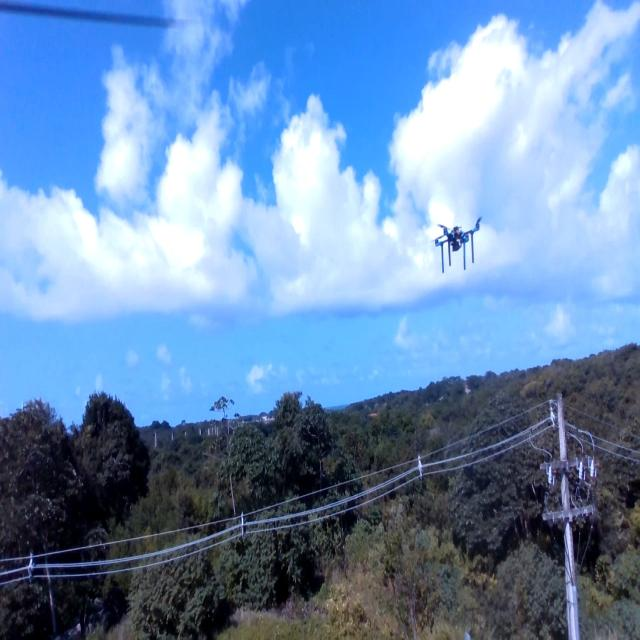-uav-: (422, 202, 492, 283)
